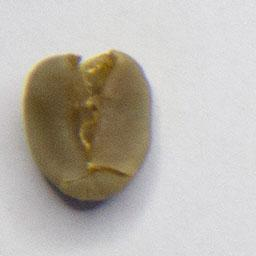premium: (20, 47, 156, 206)
